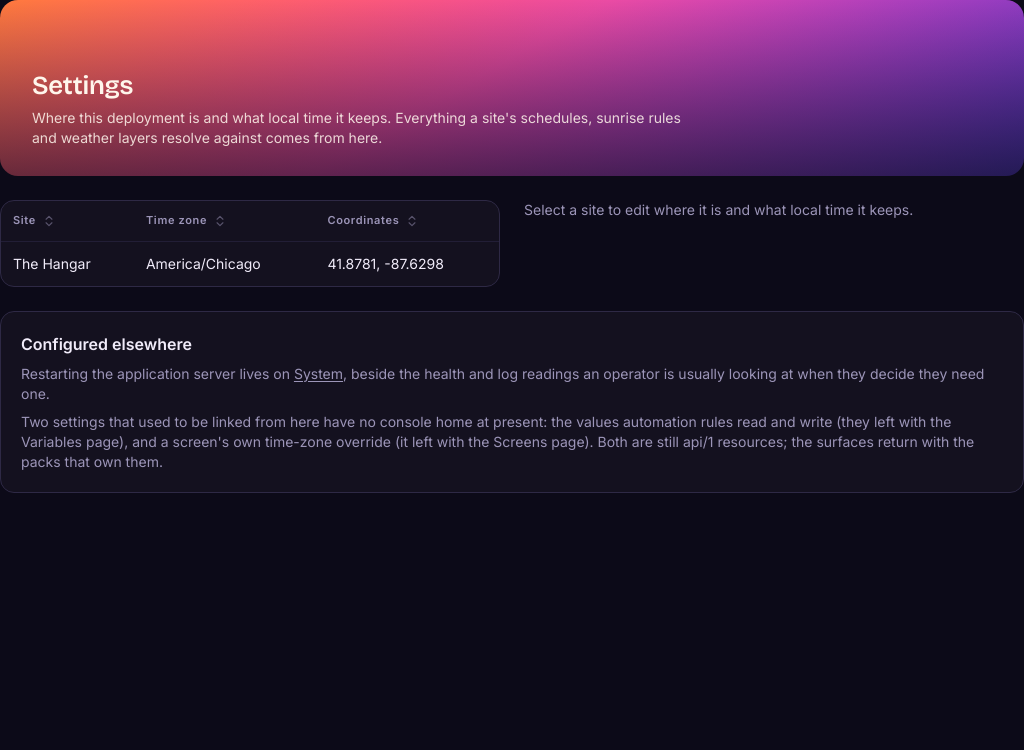
Test: Settings — saving a site, driven › disables Save while the write is in flight, so one click cannot become two
Expected: the table named "Sites" is shown, [1,201,499,286]
Click the button "The Hangar" at [250, 263], box [1,241,499,286]
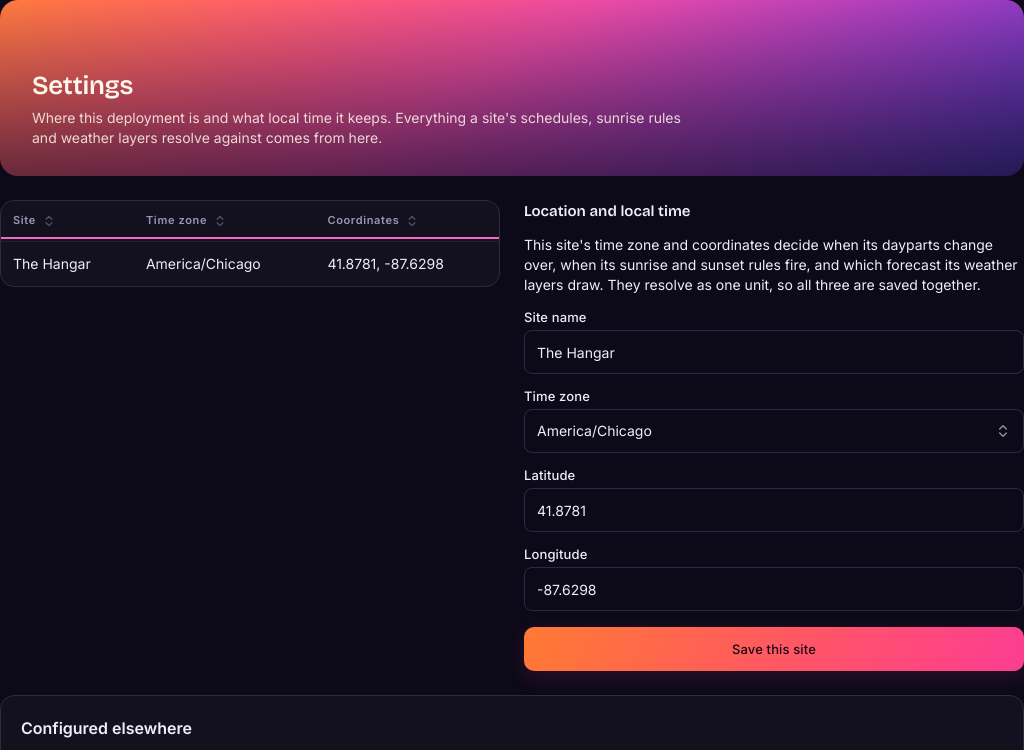
Now the field labelled "Site name" is shown, box [524,330,1023,374]
Click the button "Save this site" at [774, 649], box [524,627,1023,671]
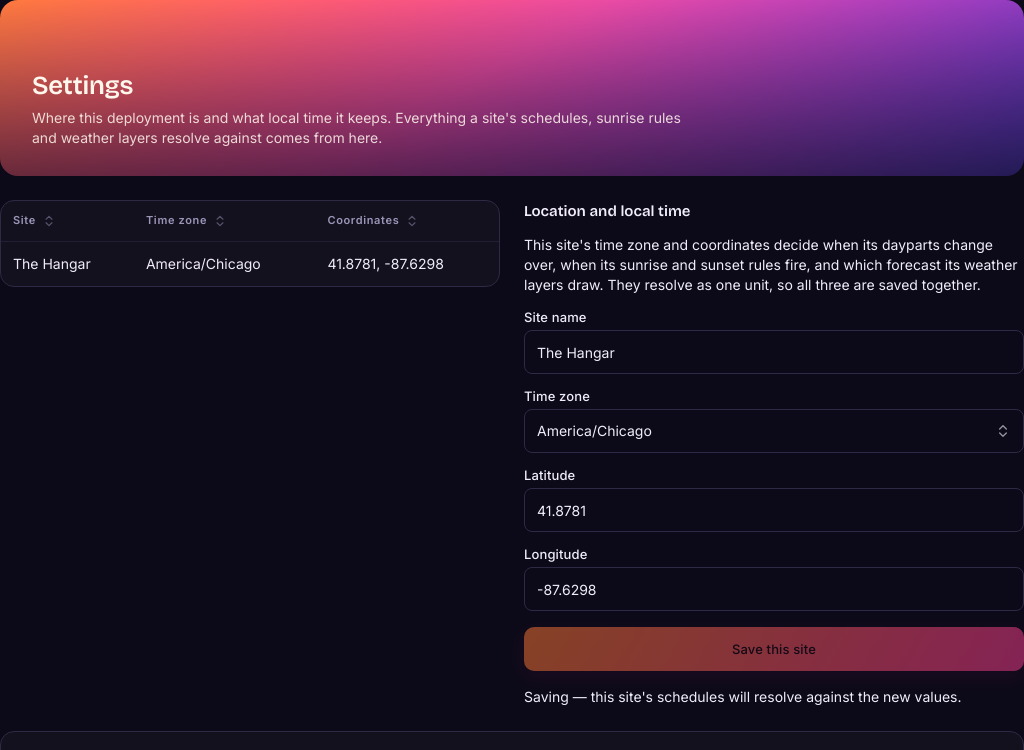
Now the button "Save this site" is disabled
Now the text "Saving — this site's schedules will resolve against the new values." is shown, box [524,687,1023,707]
Click the button "Save this site" at [774, 649], box [524,627,1023,671]
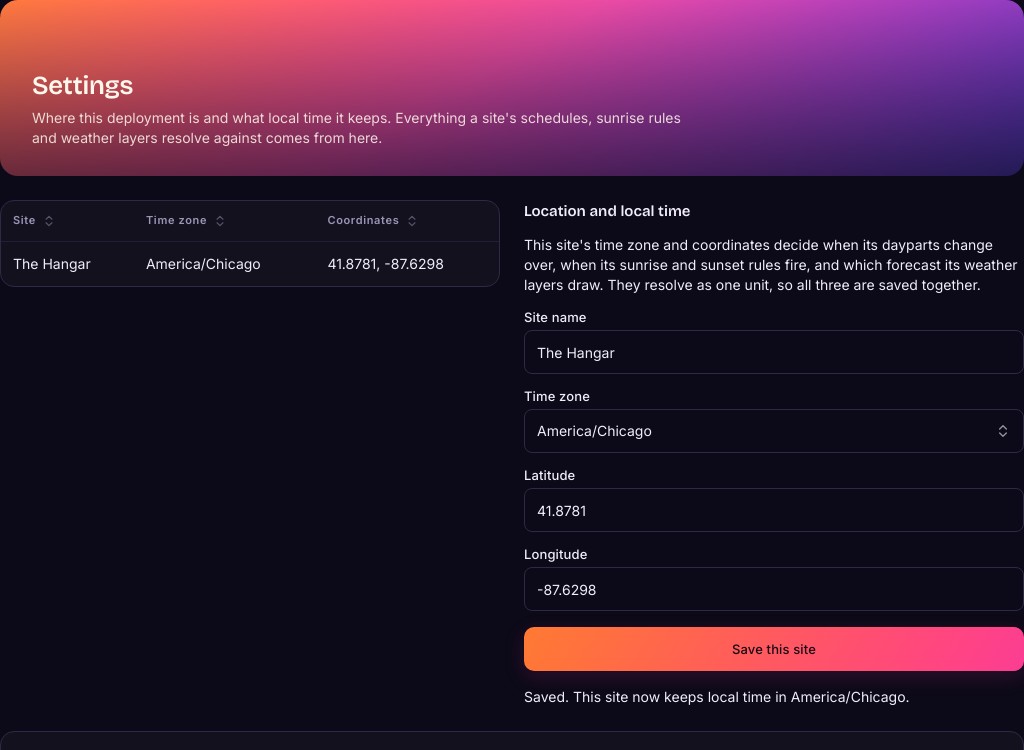
Now the text "Saved. This site now keeps local time in America/Chicago." is shown, box [524,688,910,705]
Now the button "Save this site" is enabled, box [524,627,1023,671]
